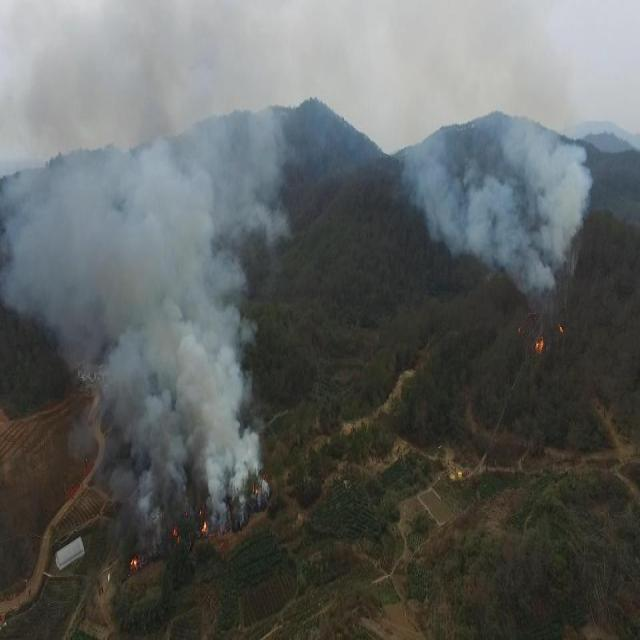Fire: (534, 334, 545, 354), (129, 554, 138, 574), (200, 520, 210, 537)
Smoke: (1, 1, 294, 549), (382, 1, 593, 296)
